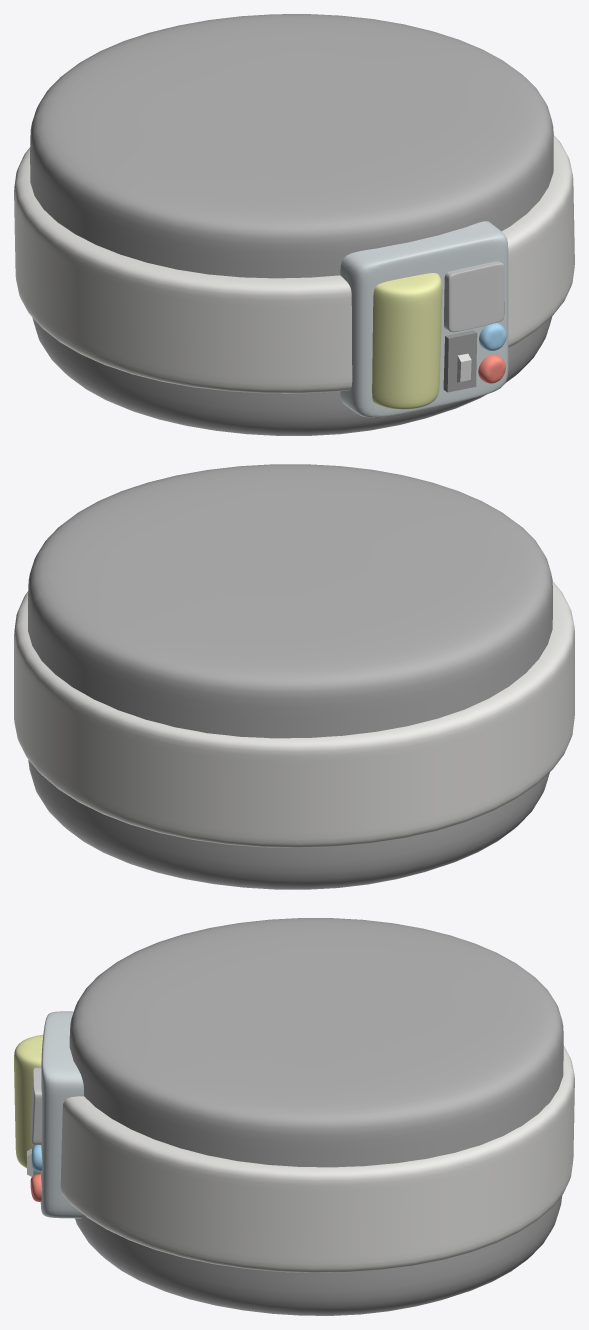
Rendered from puzz_bottom_v2.gltf.
3 renders of one model, top to bottom at view 1: azimuth 30°, elevation 25°; view 2: azimuth 150°, elevation 25°; view 3: azimuth 270°, elevation 25°, orthographic. The views are drawn at different scales.
Visible parts, largest first — view 1: puzz_bottom_v2; view 2: puzz_bottom_v2; view 3: puzz_bottom_v2.
Part boxes in pixels (left/top/right/bottom): puzz_bottom_v2: left=14, top=14, right=574, bottom=435; puzz_bottom_v2: left=14, top=464, right=574, bottom=889; puzz_bottom_v2: left=14, top=918, right=574, bottom=1315.
Bounding box in the file's own units: 127 × 59.1 × 136.
